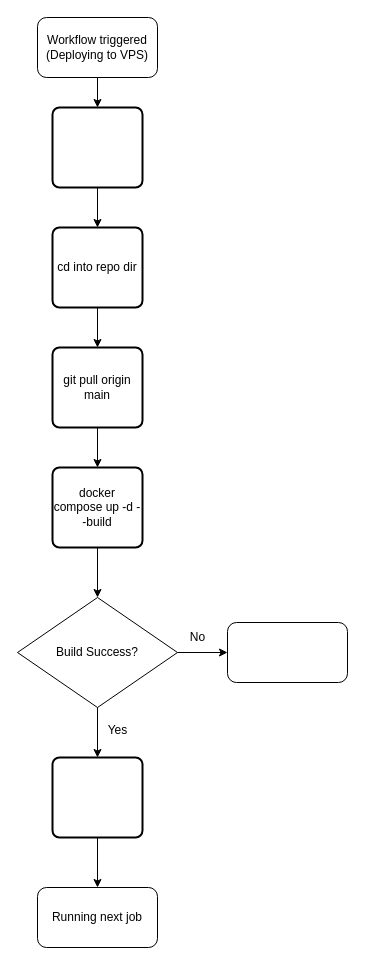
The diagram is 365 pixels wide and 965 high, and some of its shapes have lost their labels. The box of each missing label's shape, as (x1, y1, x2, y2) in pixels:
docker image prune -f: (51, 756, 143, 838)
FAIL (Stop): (226, 622, 348, 682)
SSH into VPS: (51, 106, 143, 188)
